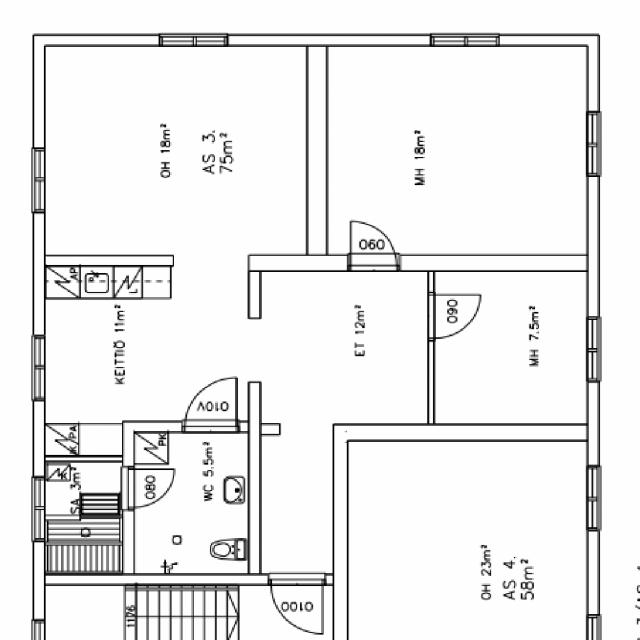door: (270, 574, 324, 636), (186, 374, 237, 432), (349, 210, 396, 271), (428, 296, 480, 338), (123, 469, 175, 508)
